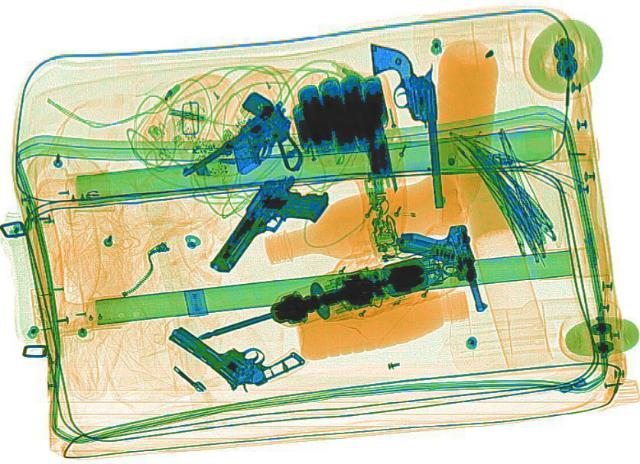Gun: (172, 102, 334, 209), (205, 169, 338, 285), (158, 297, 308, 398), (368, 38, 450, 209), (392, 222, 486, 316)
